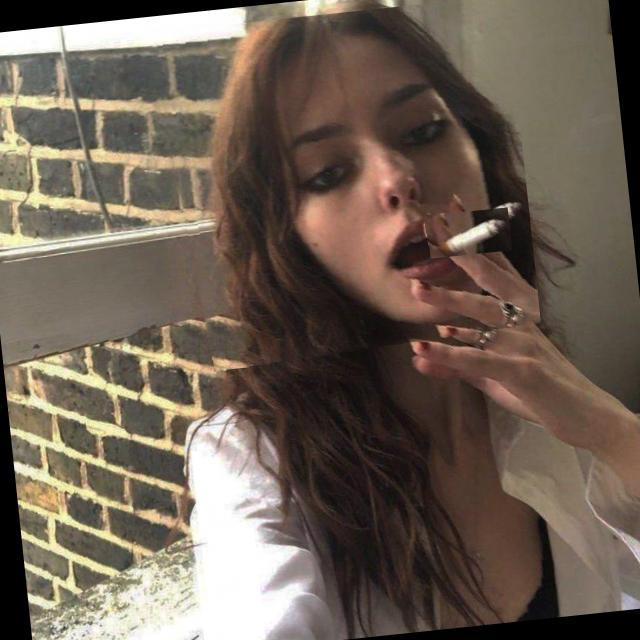cigarette: (422, 206, 512, 258)
